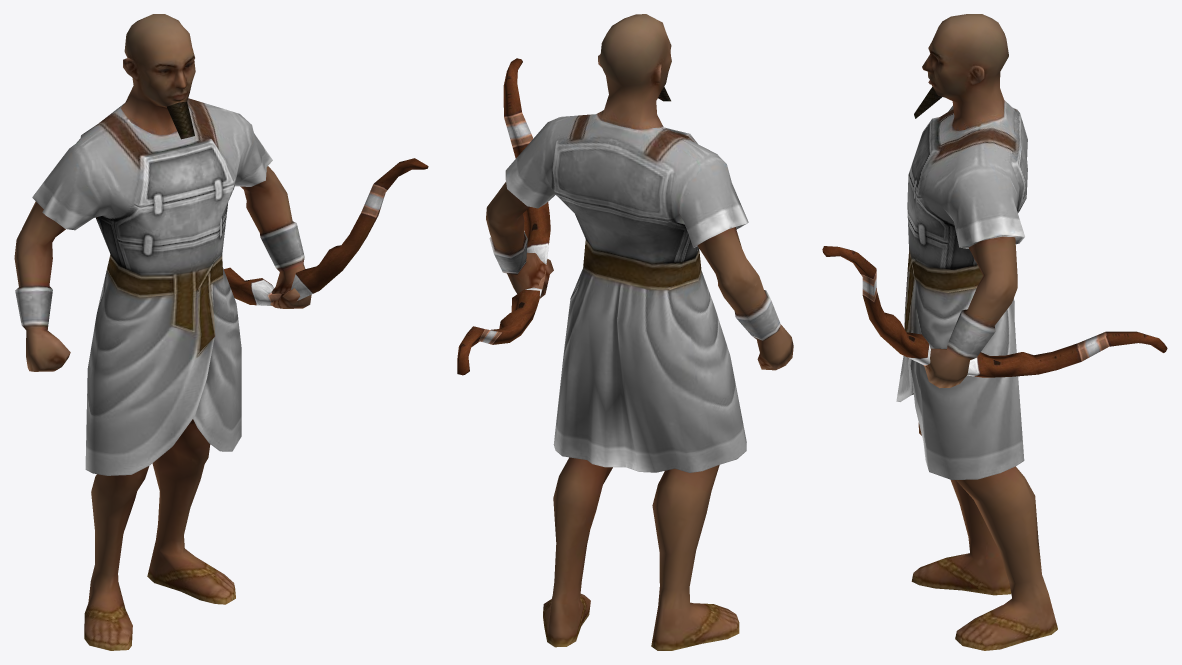
File: rider-base.glb
3 renders of one model, left to right at view 1: azimuth 30°, elevation 25°; view 2: azimuth 150°, elevation 25°; view 3: azimuth 270°, elevation 25°, orthographic.
Size of the model in its own units: 1.2 by 2.04 by 1.07.
2 materials, 2 textured.
